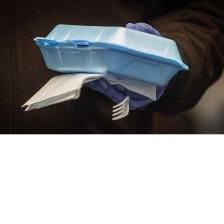foam_box: (28, 16, 194, 91)
